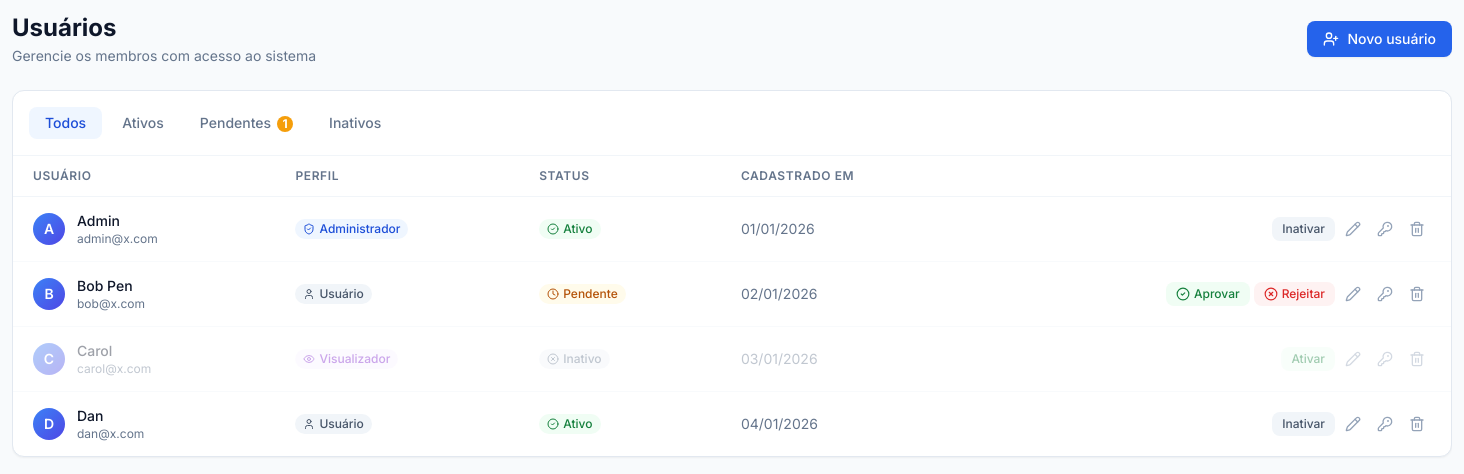
Test case: Users — filter tabs › clicar em 'Inativos' filtra a lista
Check: the text "Dan" is shown, box [77,407,104,424]
What coordinates should you click on to do the following:
click the button "Inativos"
I would click on:
 (355, 123)
Its box is [313,107,397,139].
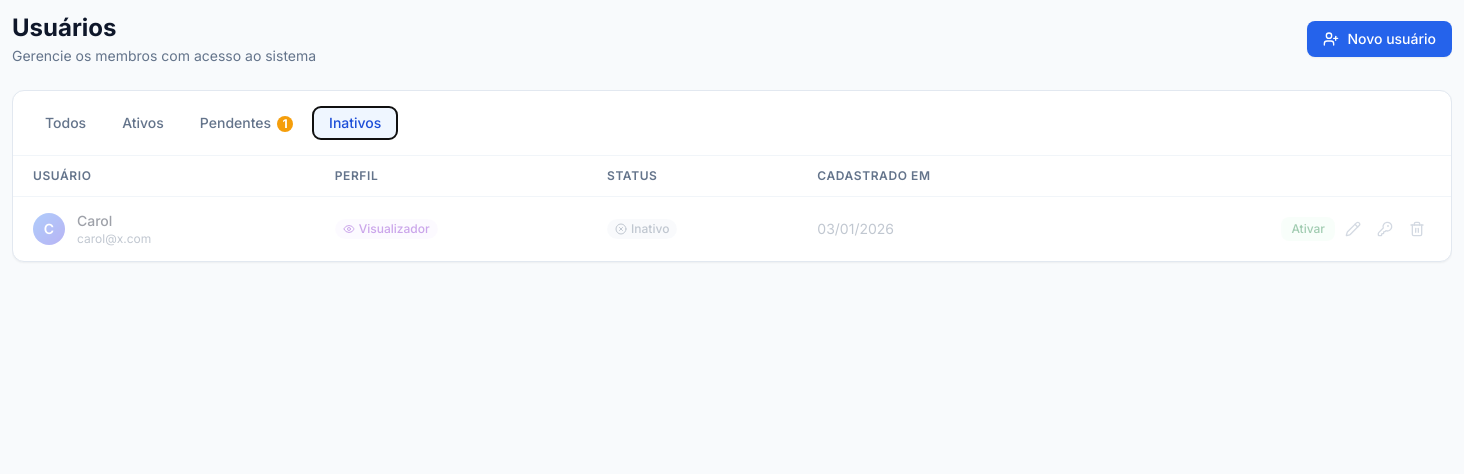
Check: the text "Carol" is shown, box [77,212,112,229]
Check: the text "Dan" is gone
Check: the text "Bob Pen" is gone
